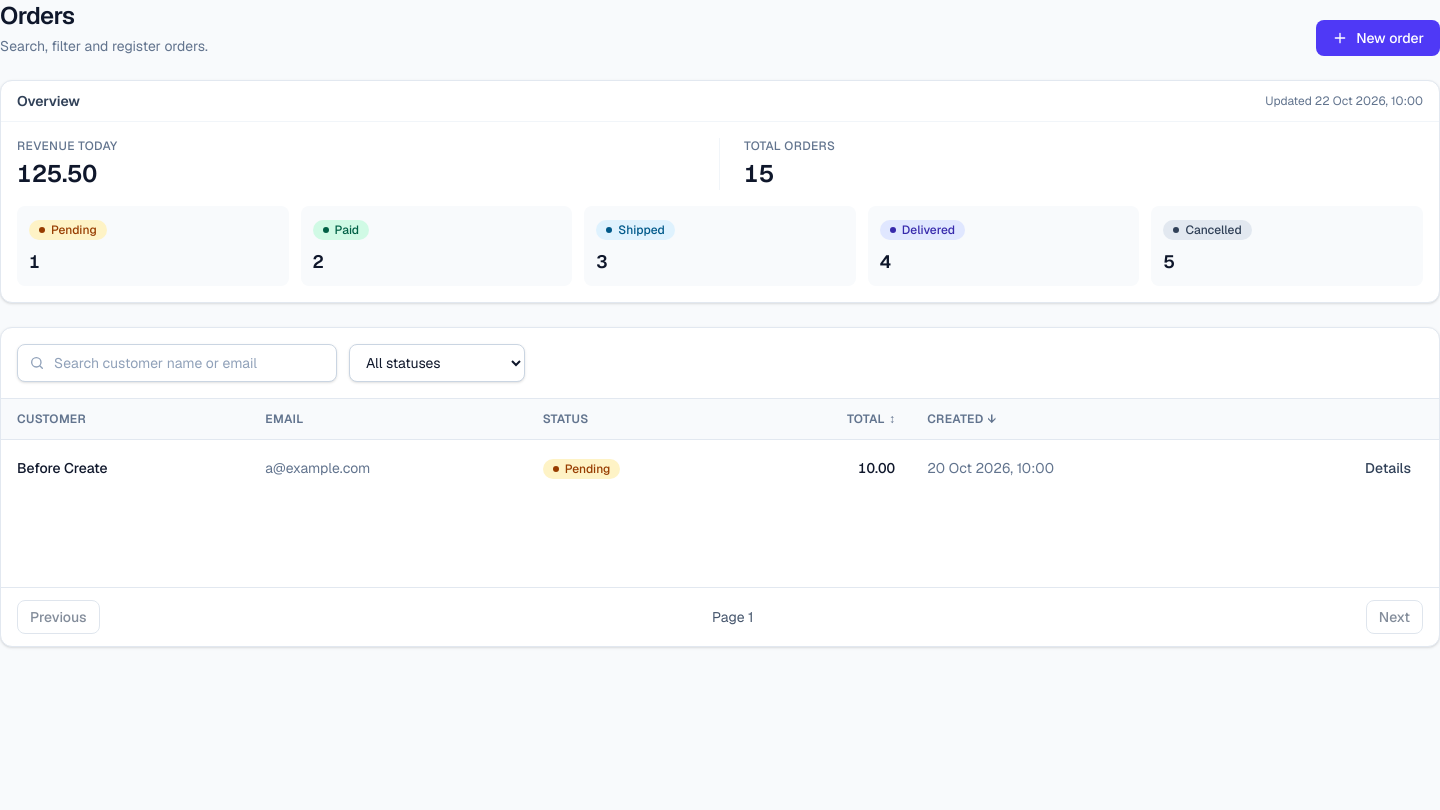
OrdersView › new order dialog › creates the order, closes the dialog and reloads the list
The width and height of the screenshot is (1440, 810).
Expected: the text "before create" is shown, [17,459,108,477]
Step 1. Click the button "New order" → (1378, 38), box [1316,20,1439,56]
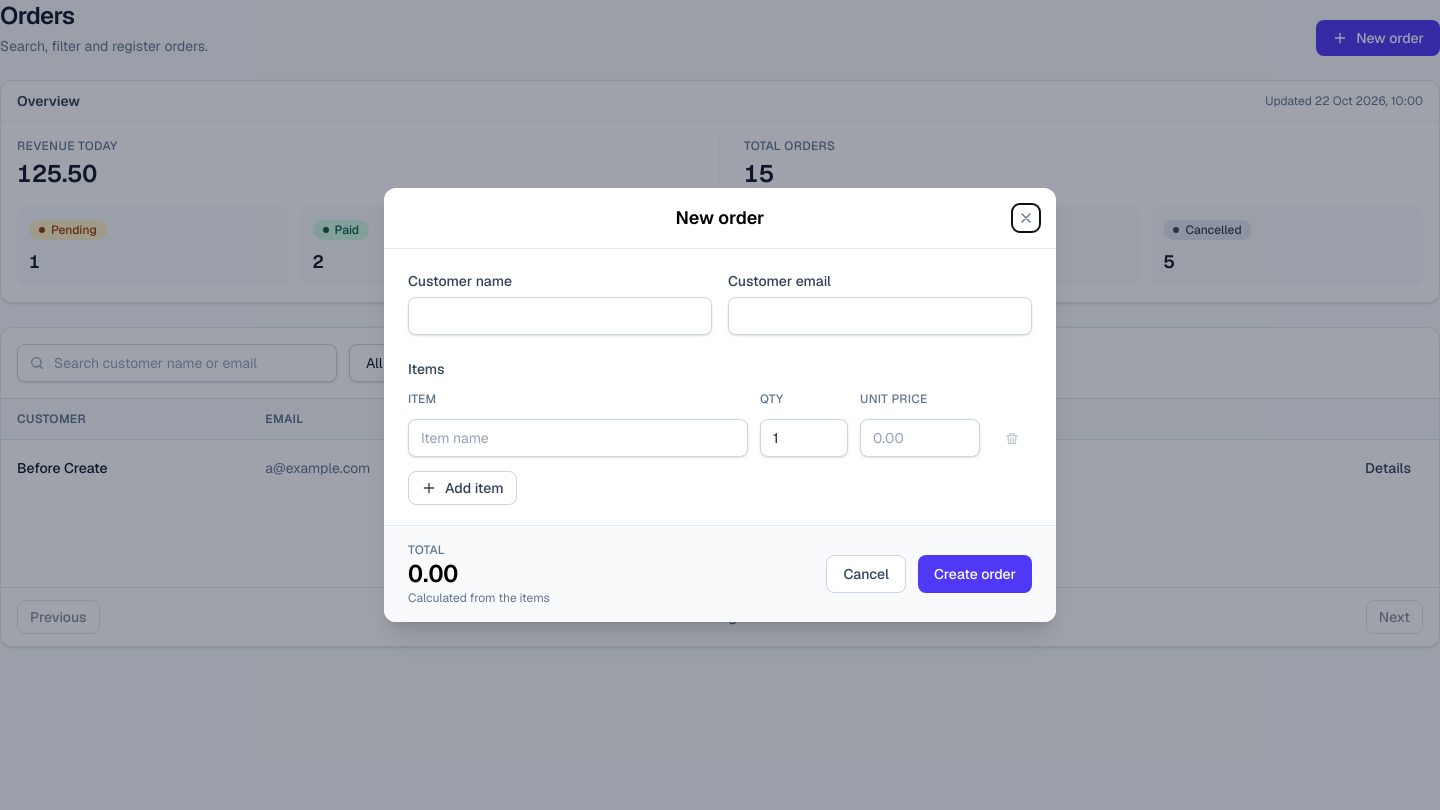
Step 2. Type "Ann Lee" into the field labelled "Customer name" → (560, 316), box [408,297,712,335]
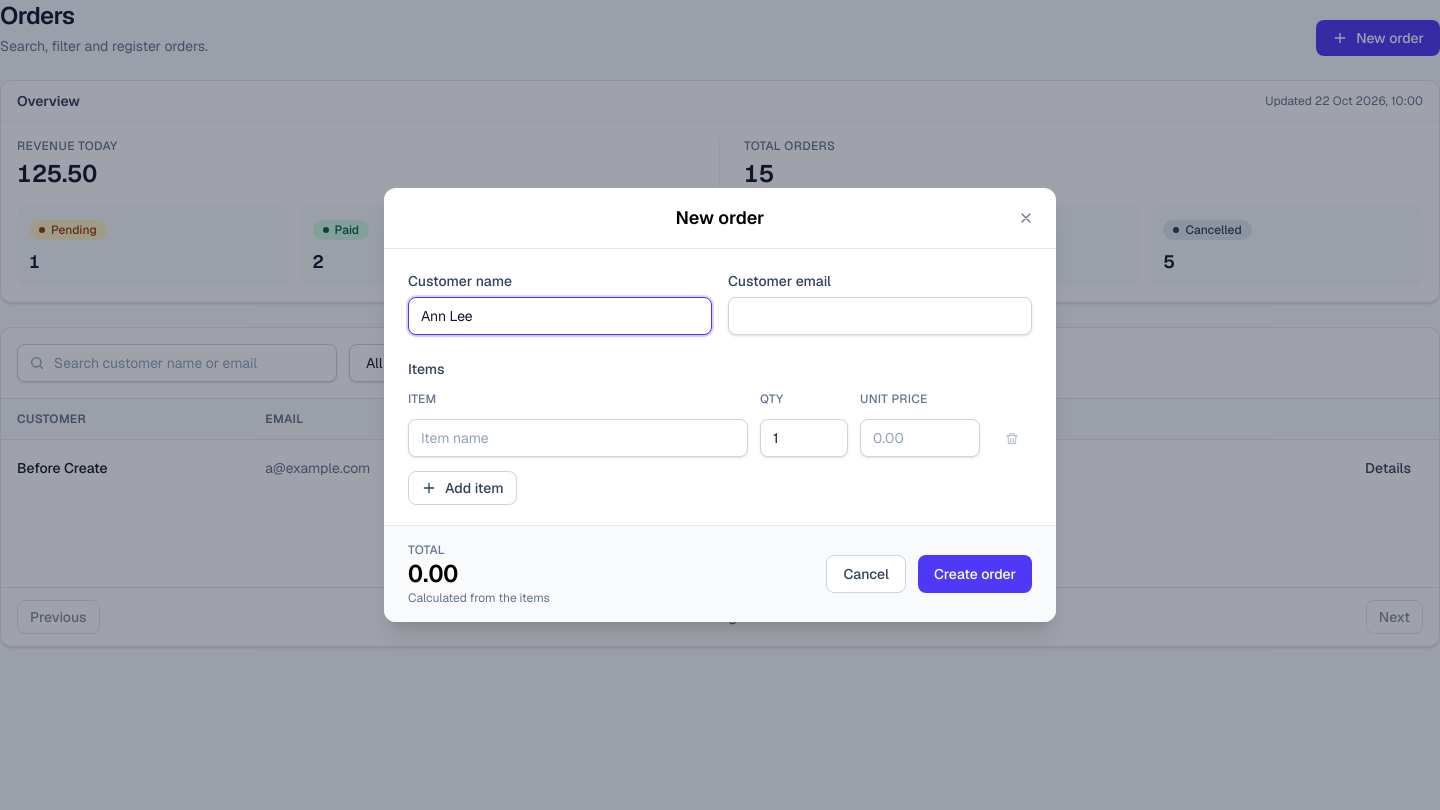
Step 3. Type "ann@example.com" into the field labelled "Customer email" → (880, 316), box [728,297,1032,335]
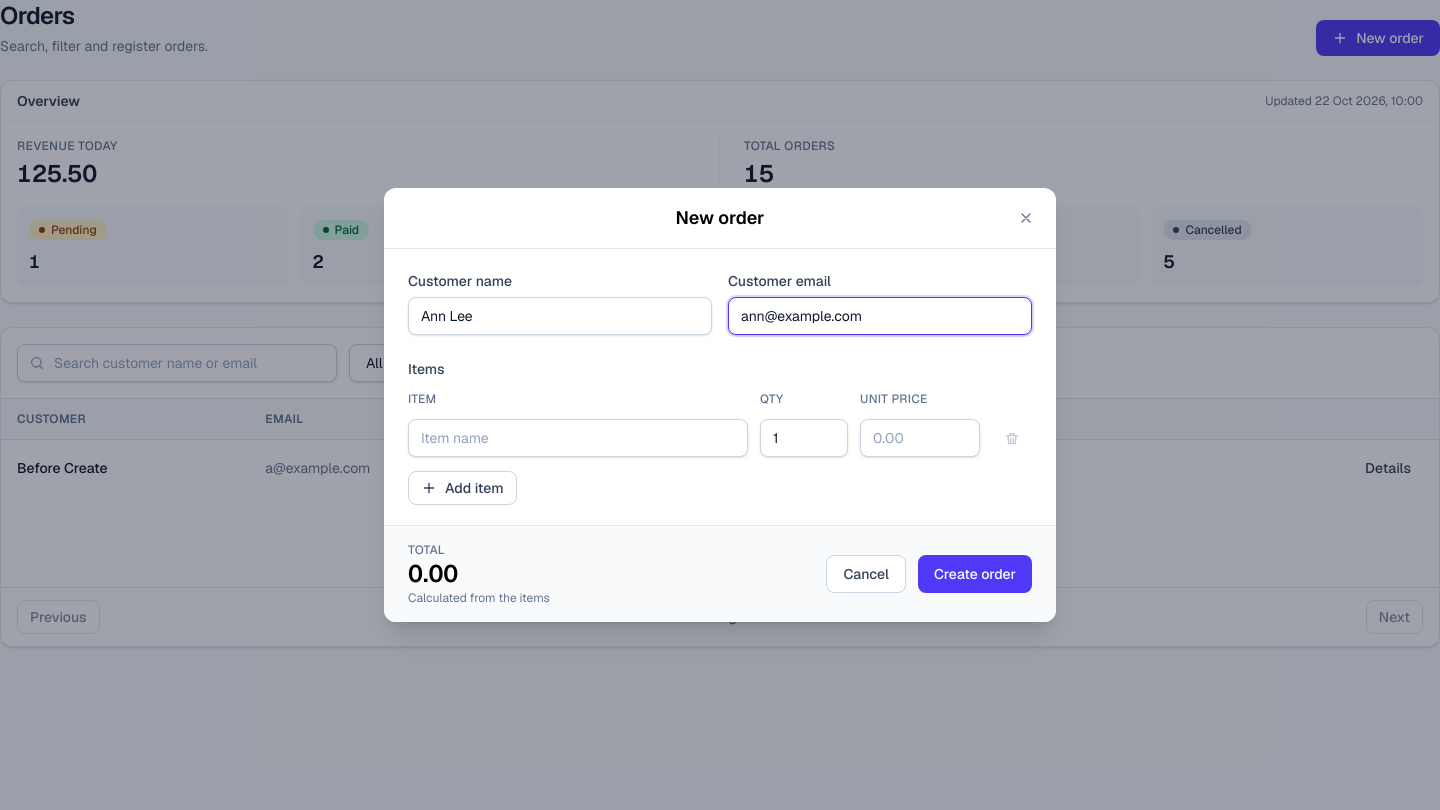
Step 4. Type "Mouse" into the field named "Item 1 name" → (578, 438), box [408,419,748,457]
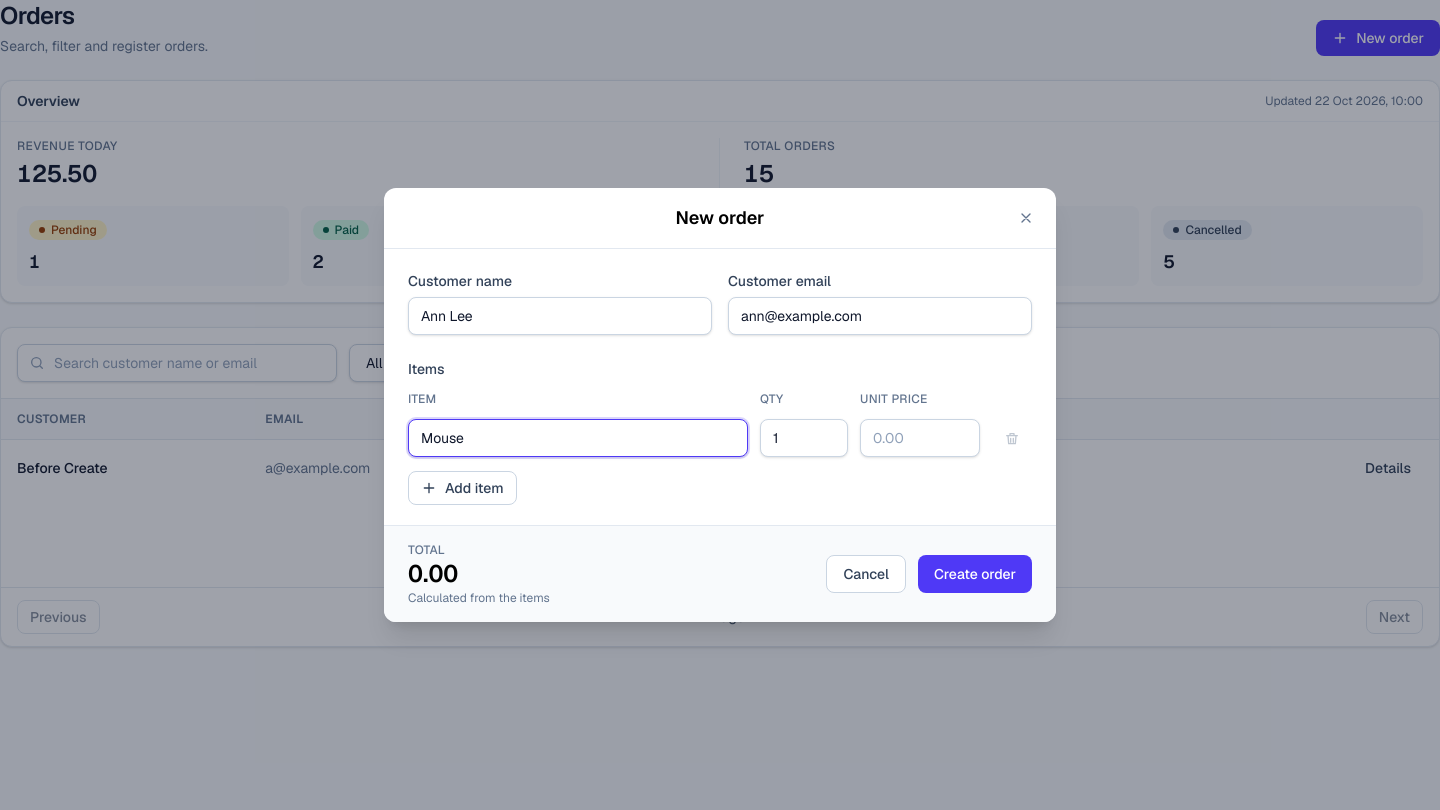
Step 5. Type "12.50" into the field named "Item 1 unit price" → (920, 438), box [860,419,980,457]
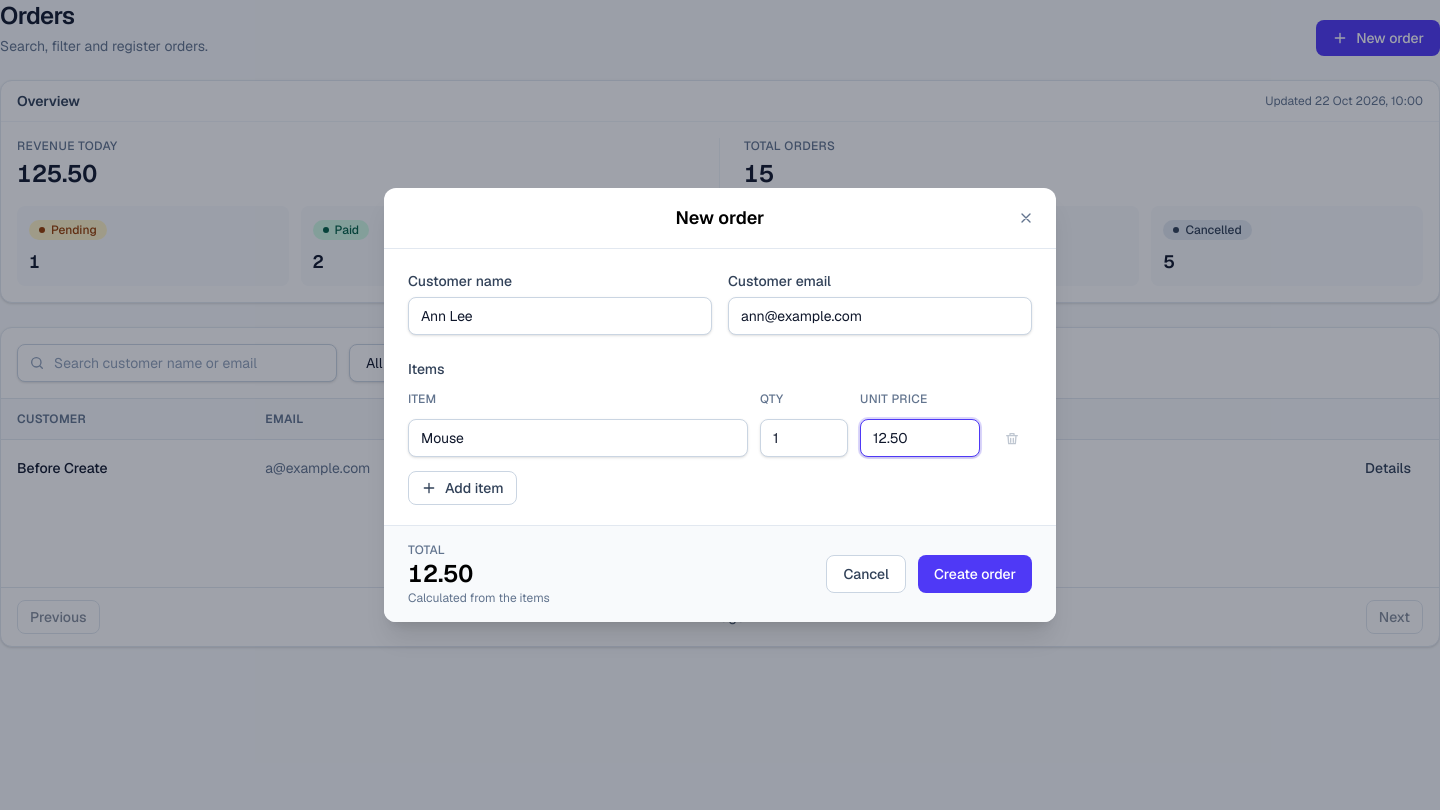
Step 6. Click the button "Create order" → (975, 574), box [918,555,1032,593]
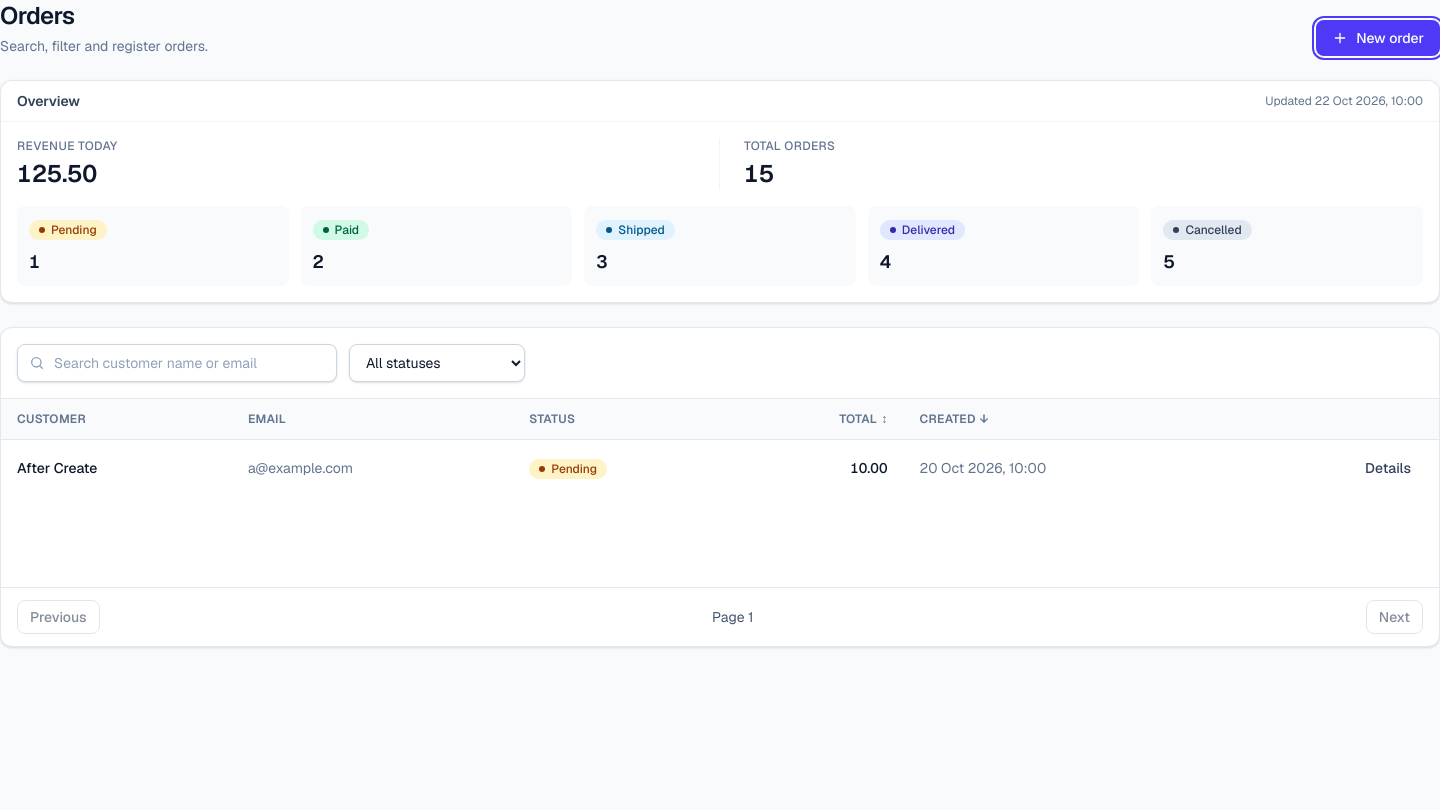
Result: the text "after create" is shown at [17,459,97,477]
Result: the dialog is gone
